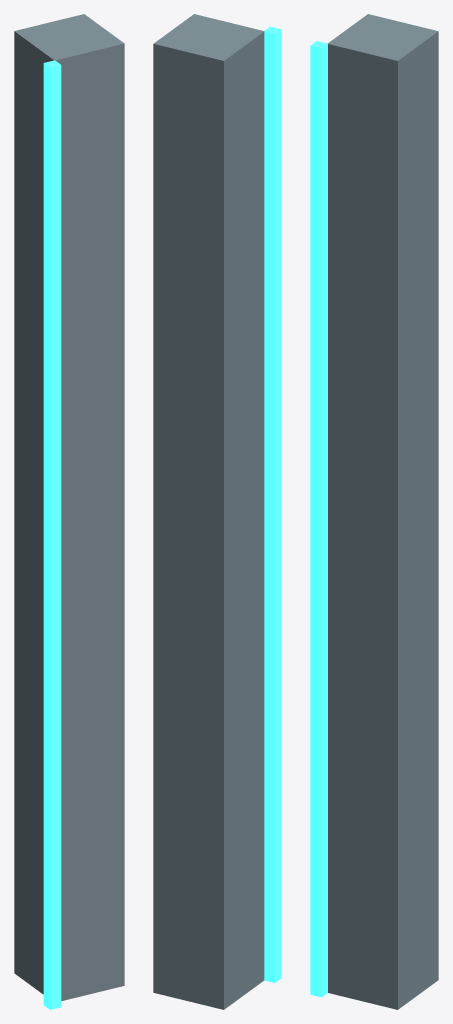
Rendered from Hab_Corner_3p6m.glb.
3 views of the same model, side by side, from view 1: azimuth 30°, elevation 25°; view 2: azimuth 150°, elevation 25°; view 3: azimuth 330°, elevation 25° (orthographic).
Parts seen in each view (by area): view 1: Hab_Corner_3p6m; view 2: Hab_Corner_3p6m; view 3: Hab_Corner_3p6m.
Boxes of the visible parts, x1,y1,x2,y2 form: Hab_Corner_3p6m: (14, 14, 124, 1009); Hab_Corner_3p6m: (153, 14, 281, 1009); Hab_Corner_3p6m: (310, 14, 438, 1009).
Size of the model in its own units: 0.3225 by 3.6 by 0.3225.
